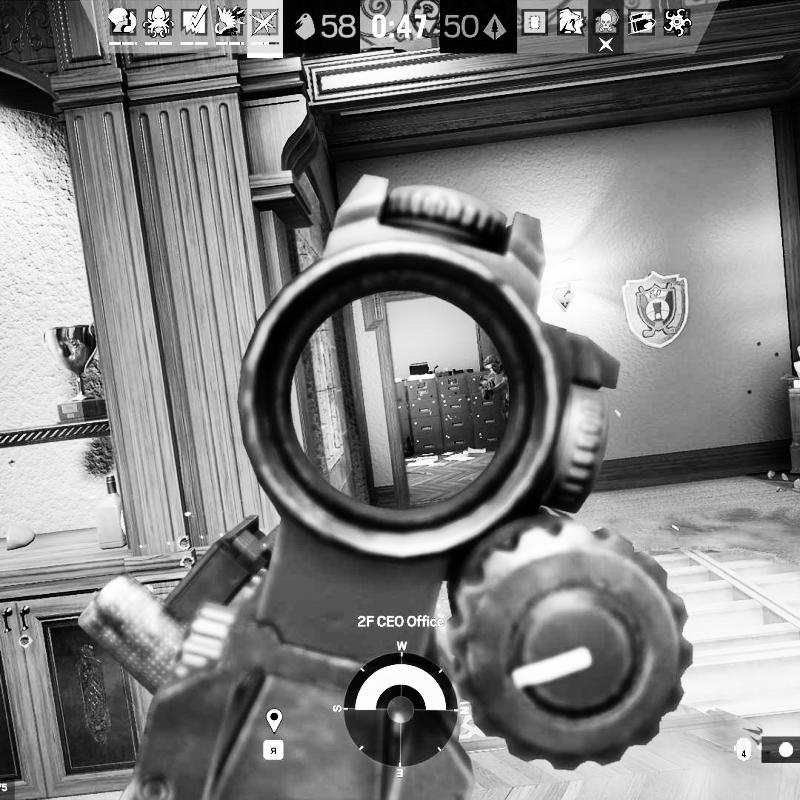Character: (476, 352, 512, 417)
Head: (484, 354, 501, 375)
